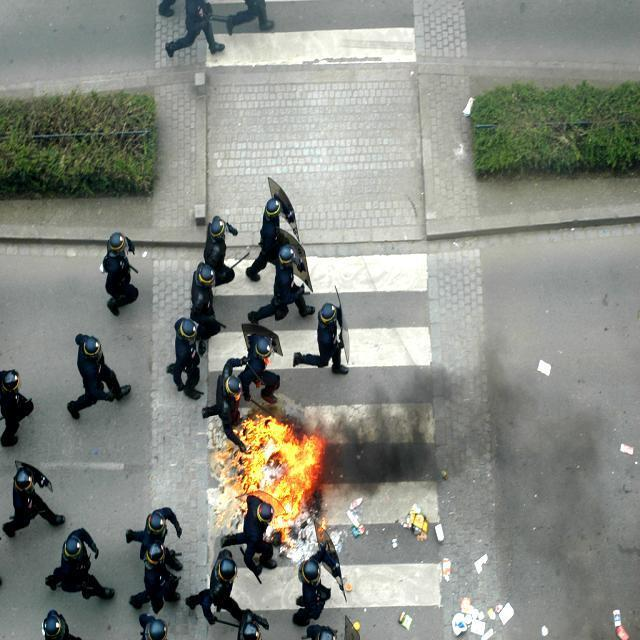Fire: (224, 408, 324, 542)
Smoke: (327, 358, 576, 516)
